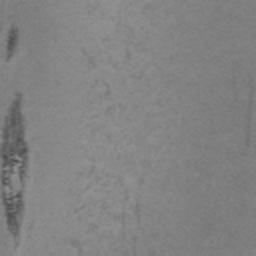Oxide scale of plate system: (0, 92, 32, 244), (3, 22, 20, 61)
